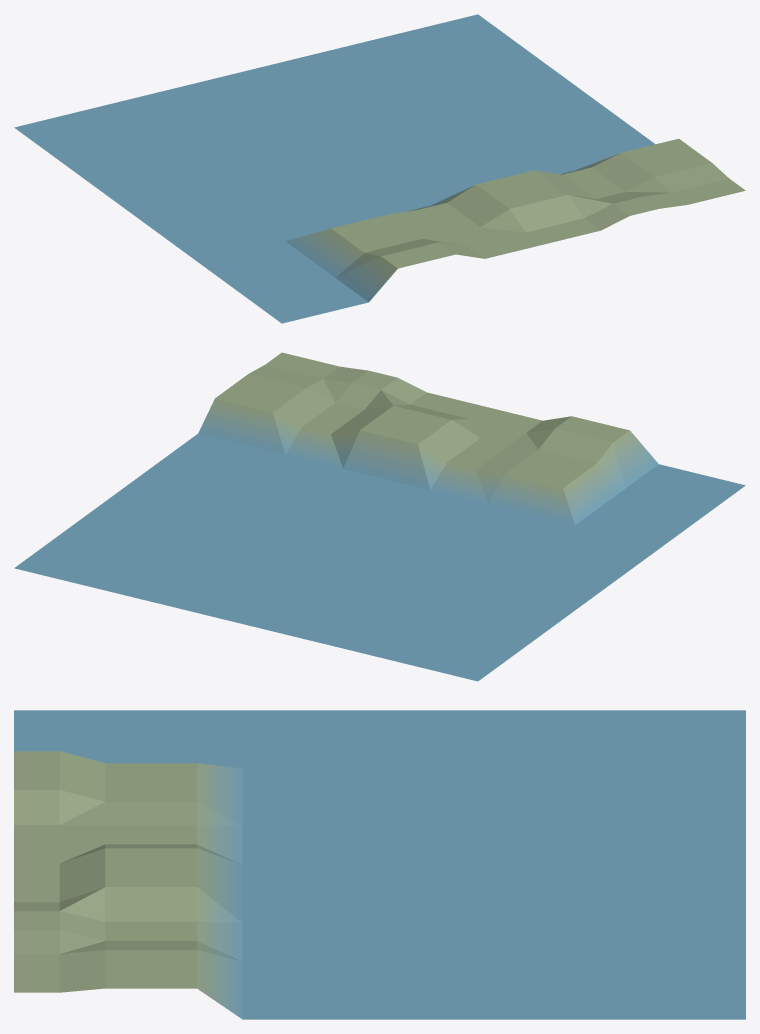
The picture shows the model from 3 angles, top to bottom: view 1: azimuth 30°, elevation 25°; view 2: azimuth 150°, elevation 25°; view 3: azimuth 270°, elevation 25°; orthographic projection. The views are drawn at different scales.
Size of the model in its own units: 32 by 1.76 by 32.
